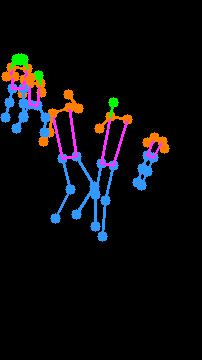normal: (35, 75, 137, 258)
